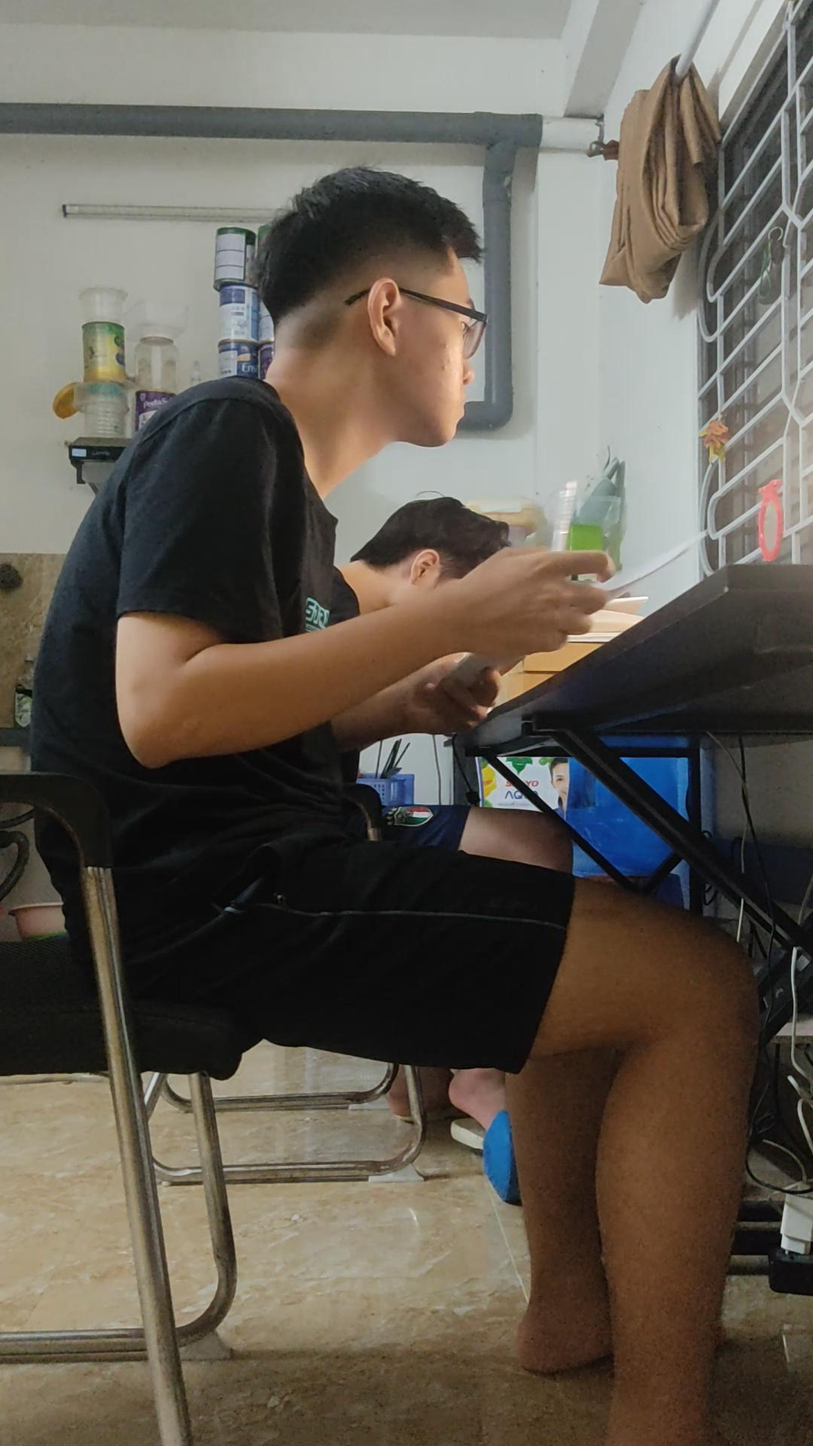BadPosture: (30, 167, 756, 1445)
